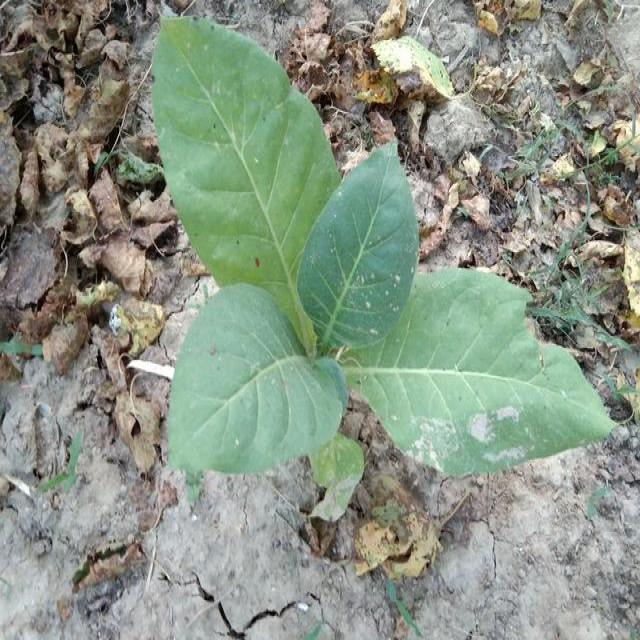crop: (148, 6, 622, 554)
